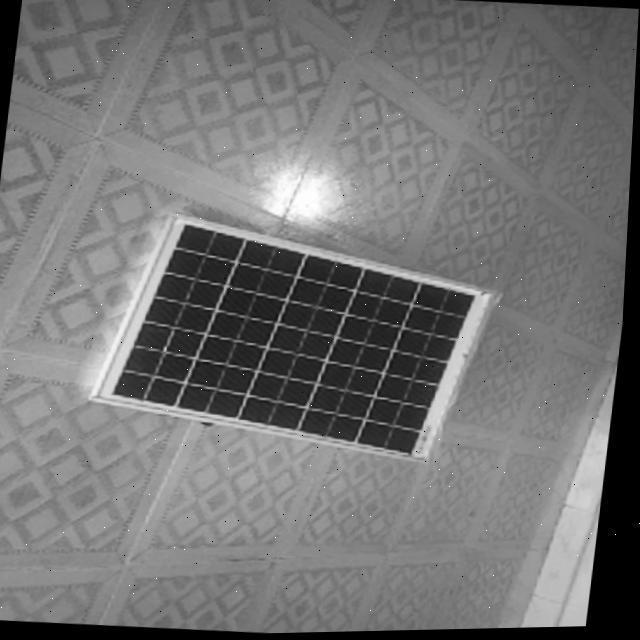Normal Solar Panel: (88, 205, 510, 471)
